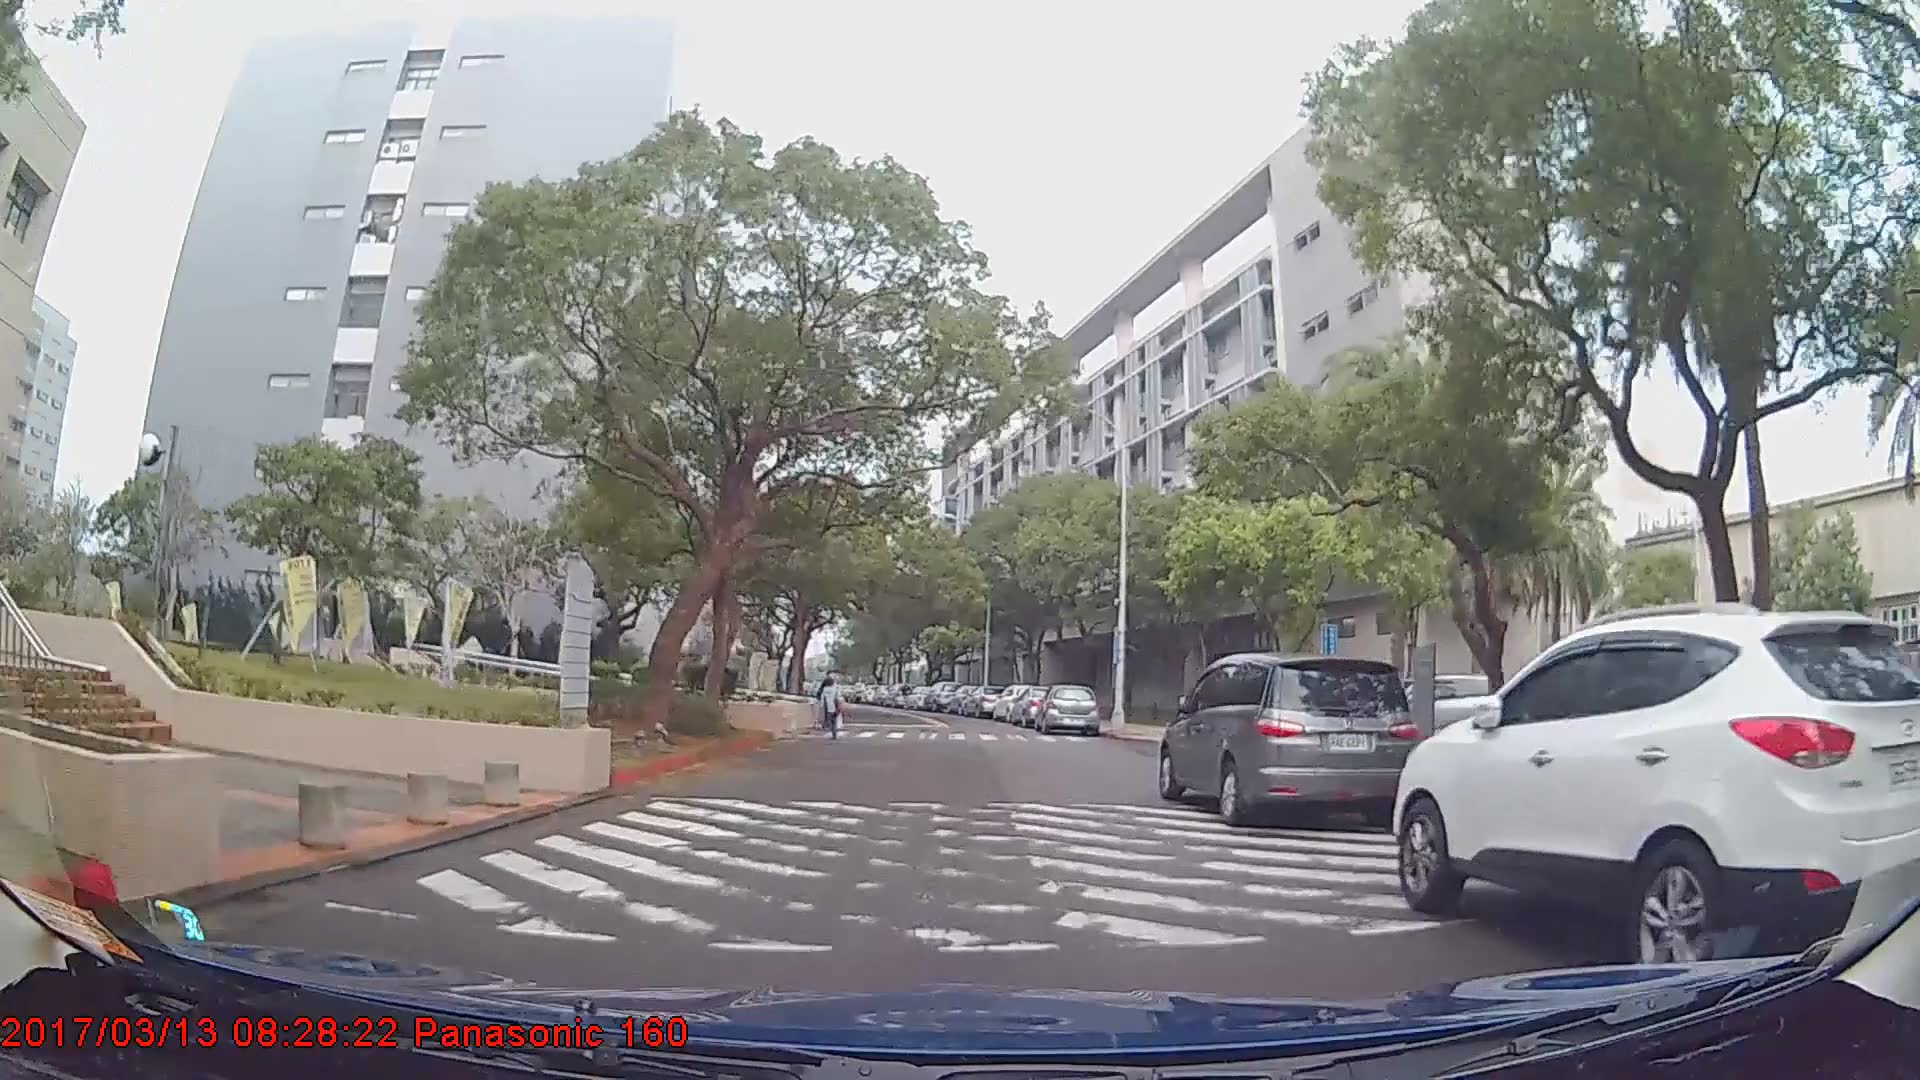pedestrian: (818, 680, 849, 745), (817, 668, 843, 730)
vehicle: (1393, 606, 1920, 983), (1158, 651, 1419, 828), (1041, 681, 1101, 734), (965, 686, 1006, 717), (921, 680, 960, 712)
